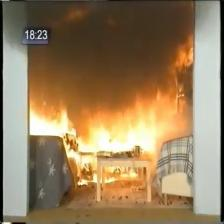fire: (90, 129, 155, 154), (30, 108, 71, 139), (135, 104, 185, 129)
